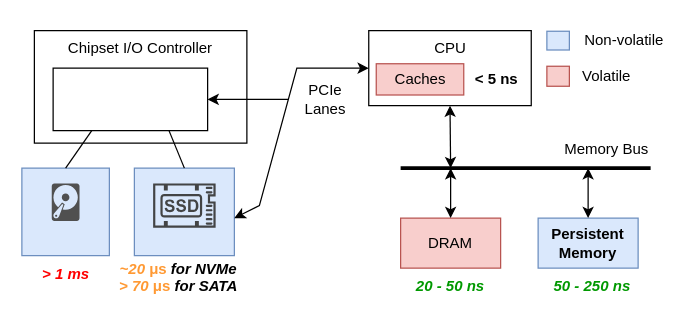
The diagram is 690 pixels wide and 335 high, and some of its shapes have lost their labels. Each missing label, with the centre of its shape:
"AHCI / SATA / NVMe Controller" belongs at (x=130, y=99).
"HDD" belongs at (x=65, y=201).
"SSD" belongs at (x=183, y=205).
